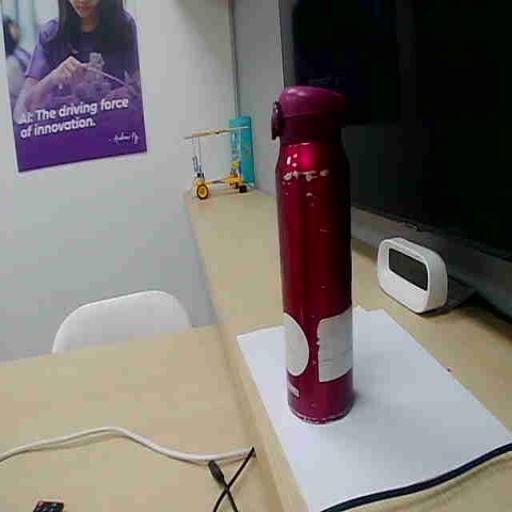bottle: (272, 87, 354, 423)
